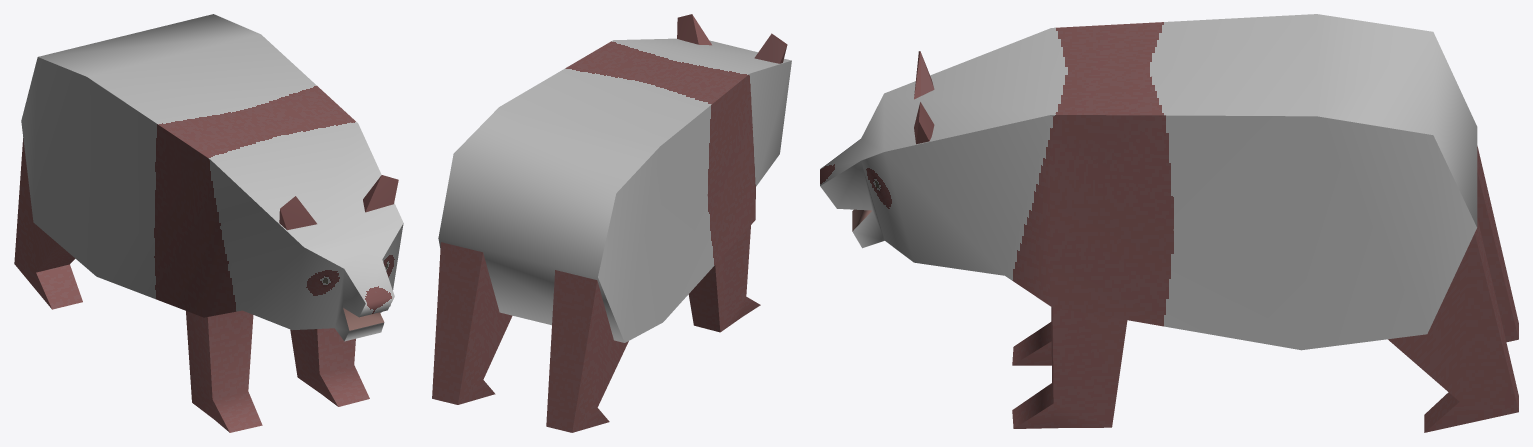
Rendered from 0a28_Red_Panda.glb.
The picture shows the model from 3 angles, left to right: view 1: azimuth 30°, elevation 25°; view 2: azimuth 150°, elevation 25°; view 3: azimuth 270°, elevation 25°; orthographic projection. The views are drawn at different scales.
Visible parts, largest first — view 1: part_0; view 2: part_0; view 3: part_0.
Boxes of the visible parts, x1,y1,x2,y2 form: part_0: [14, 14, 403, 432]; part_0: [432, 14, 791, 432]; part_0: [820, 14, 1518, 432].
Bounding box in the file's own units: 0.6051 × 0.8192 × 1.61.
Materials: 1 (1 with a texture image).
